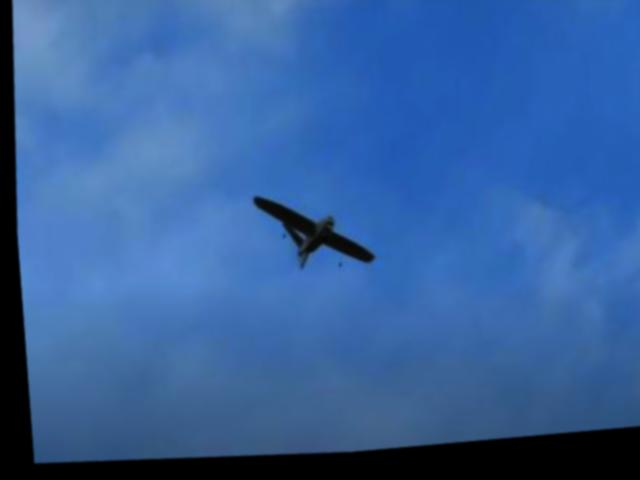uav: (243, 187, 374, 283)
